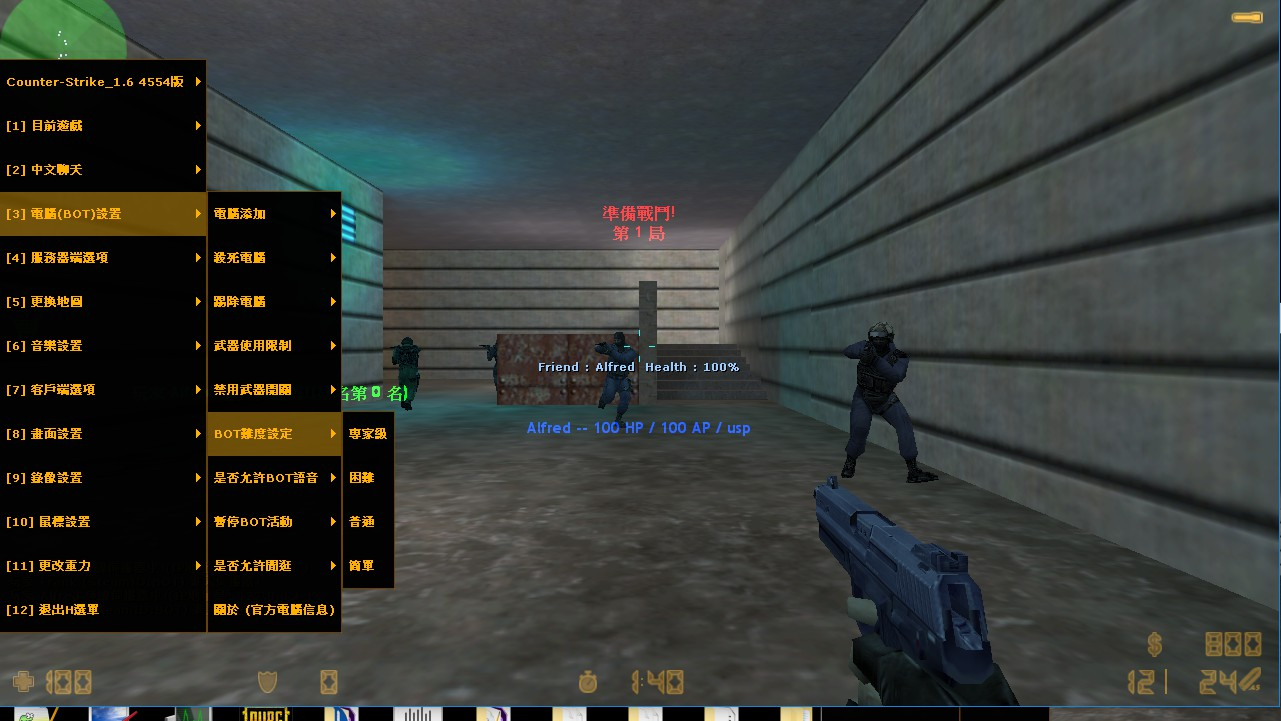person: (845, 316, 923, 480), (594, 335, 643, 425), (389, 327, 422, 411)
